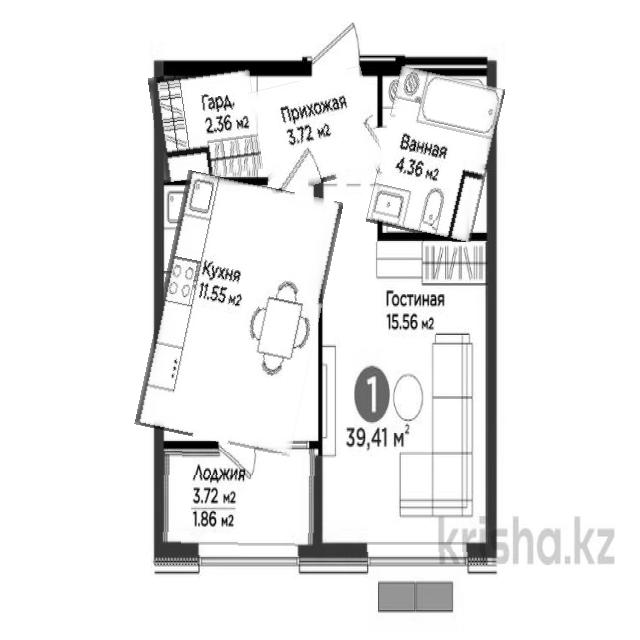balcony: (161, 451, 316, 556)
bathroom: (374, 71, 497, 241)
hallway: (253, 71, 380, 188)
kitchen: (146, 177, 331, 451)
living_room: (322, 242, 488, 552)
other: (152, 67, 260, 180)
